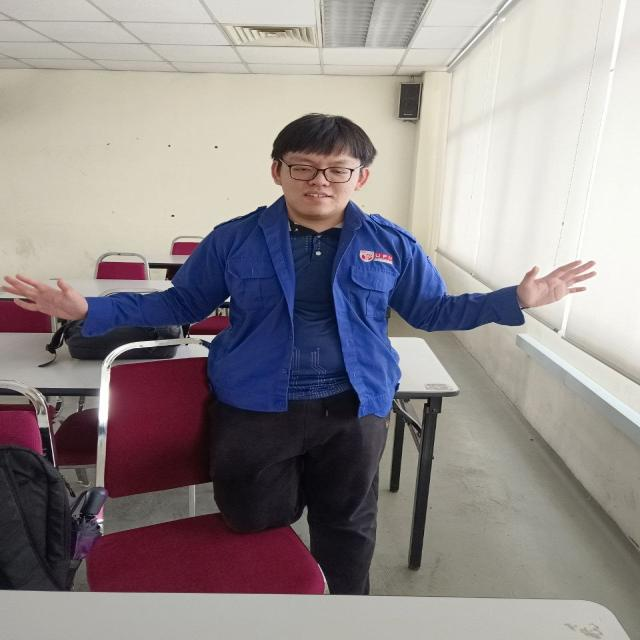person_with_labcoat: (6, 114, 595, 594)
